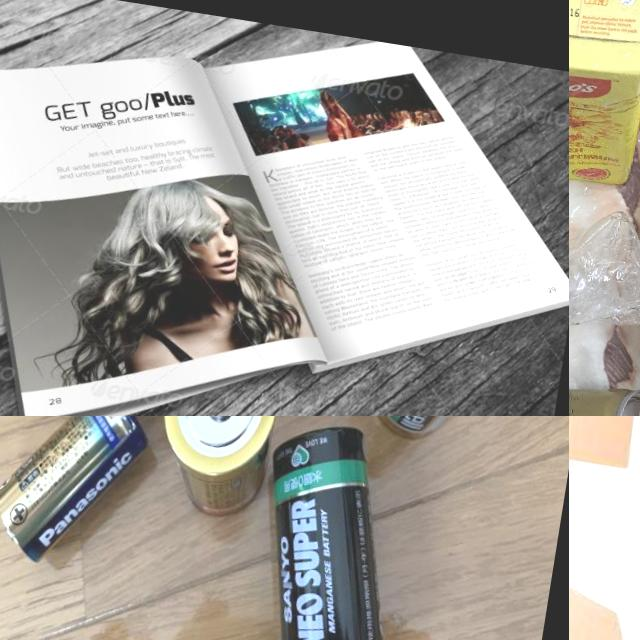bateria: (237, 416, 426, 640), (0, 416, 159, 579), (149, 416, 295, 531)
caixinha: (569, 0, 640, 191)
garrafa plástica: (569, 164, 640, 406), (569, 416, 640, 532), (569, 527, 640, 640)
lata: (569, 0, 640, 86)
papel: (0, 0, 569, 416)
